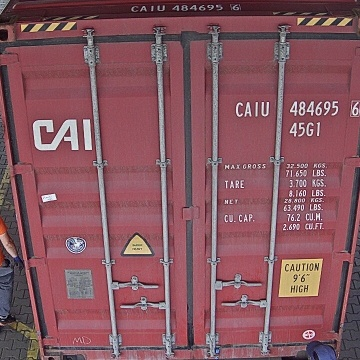serial_id: (235, 100, 360, 116)
